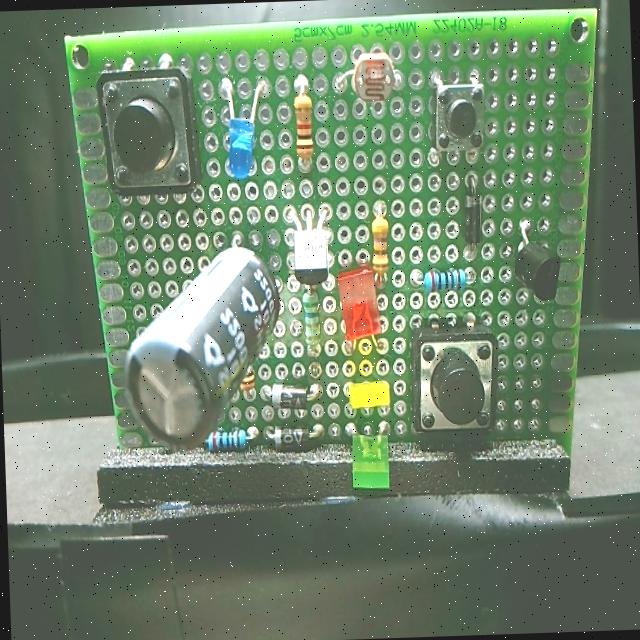Electrolytic capacitor: (114, 221, 288, 462)
cds: (350, 51, 404, 108)
diode: (454, 175, 492, 259), (266, 418, 316, 458), (264, 376, 314, 411)
led: (335, 266, 385, 354), (343, 426, 398, 496), (216, 108, 262, 184), (342, 364, 397, 418)
resistor: (284, 84, 320, 166), (204, 417, 254, 464), (417, 258, 475, 296), (368, 214, 396, 282), (296, 286, 324, 348), (238, 358, 262, 403)
switch: (90, 61, 202, 204), (401, 314, 507, 445), (422, 75, 488, 160)
transistor: (282, 209, 341, 283), (510, 232, 558, 306)
